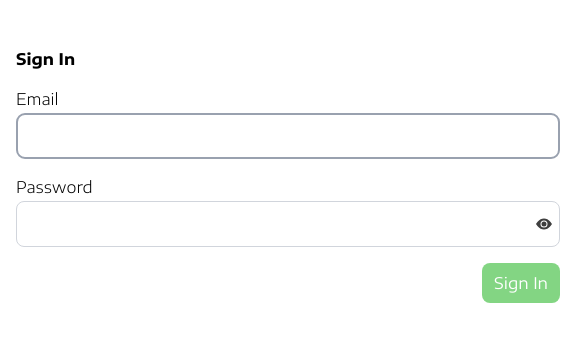
Test case: Form submit › displays sign-in request error, then removes it on first change
Type "superman@krypton.universe" into the field labelled "Email" at (288, 136), box [16,113,560,159]
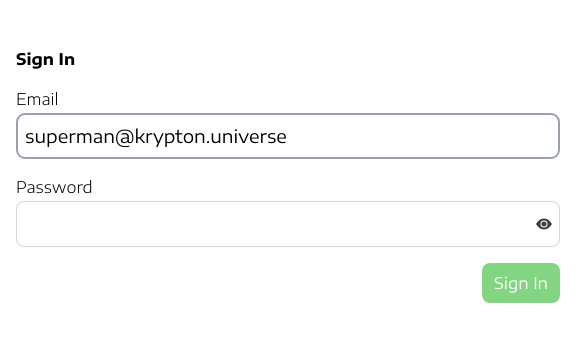
Type "Ss@12312" into the field labelled "Password" at (288, 224), box [16,201,560,247]
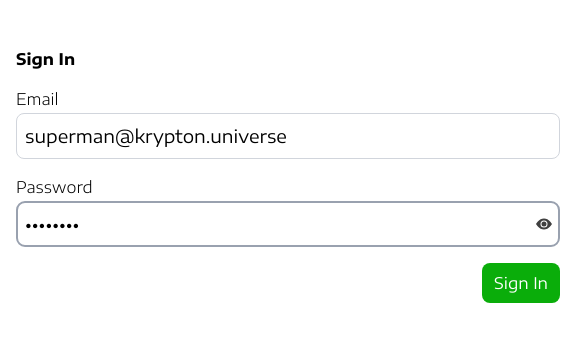
Click the button "Sign In" at (521, 283), box [482,263,560,303]
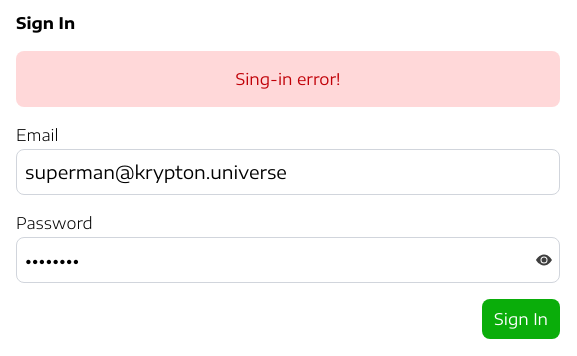
Now the text "Sing-in error!" is shown, box [16,51,560,107]
Type "1" into the field labelled "Password" at (288, 260), box [16,237,560,283]
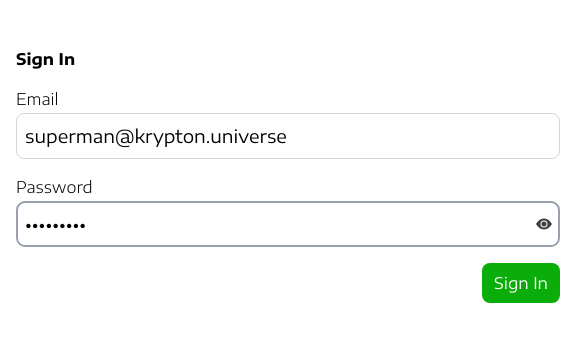
Now the text "Sing-in error!" is gone
